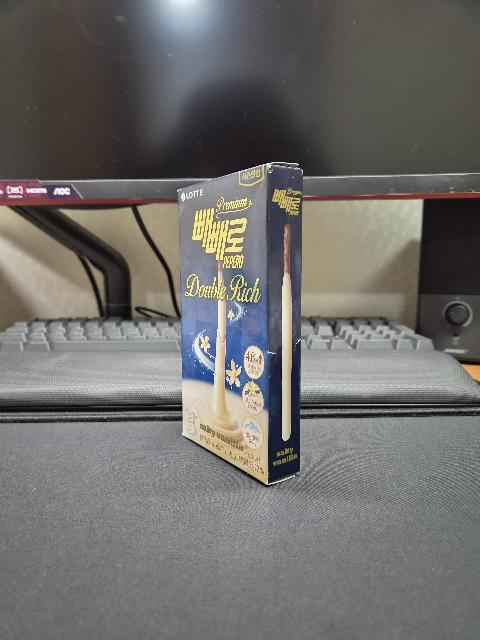pepero: (177, 162, 303, 485)
